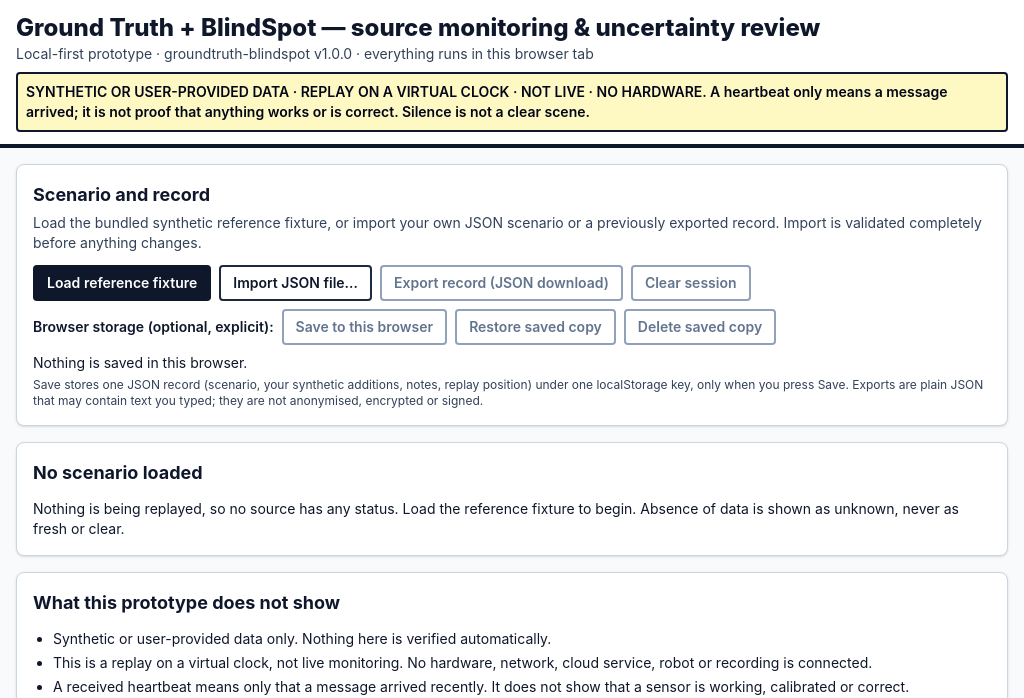
Test: workbench mounts and replays the reference fixture › loads the fixture and renders all three sources with their states
Click the button with test id "btn-load-ref" at [122, 283], box [33, 265, 211, 301]
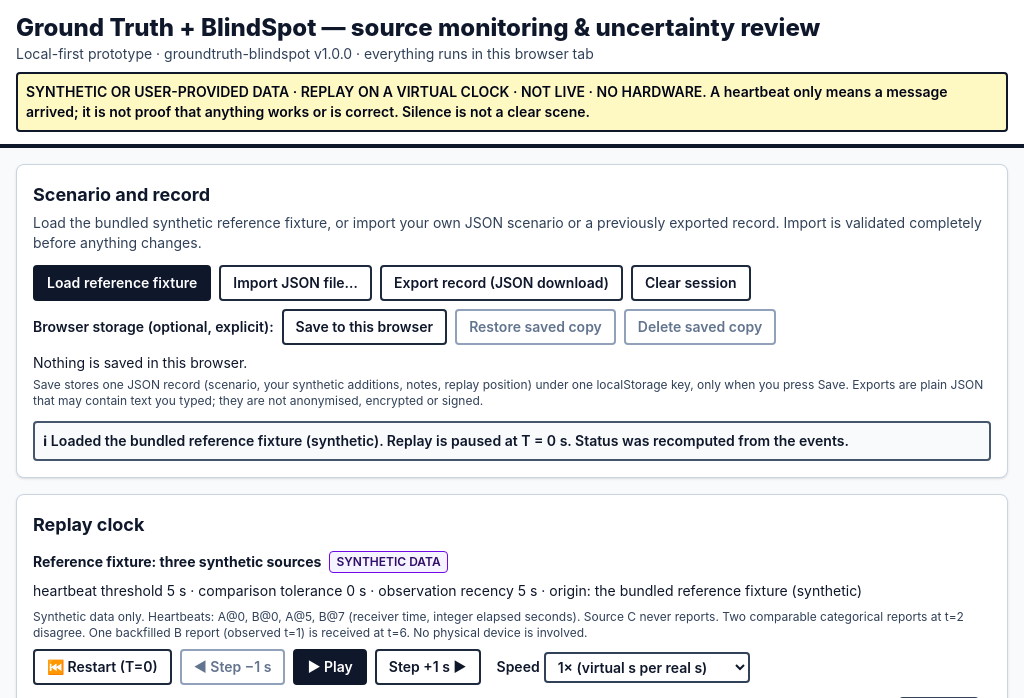
Check: the text with test id "empty-state" is gone
Check: the element with test id "scenario-meta" shows "threshold 5 s", box [33, 551, 991, 641]
